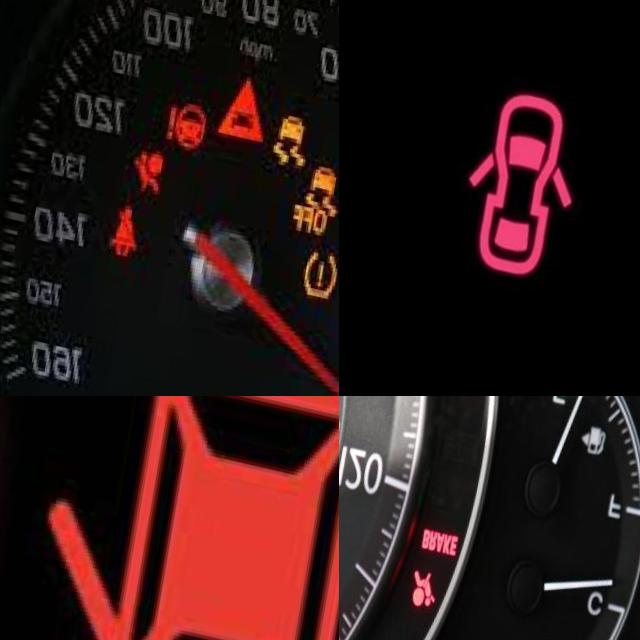Electronic Power Steering: (165, 80, 223, 147)
Seat Belt: (114, 192, 161, 254)
